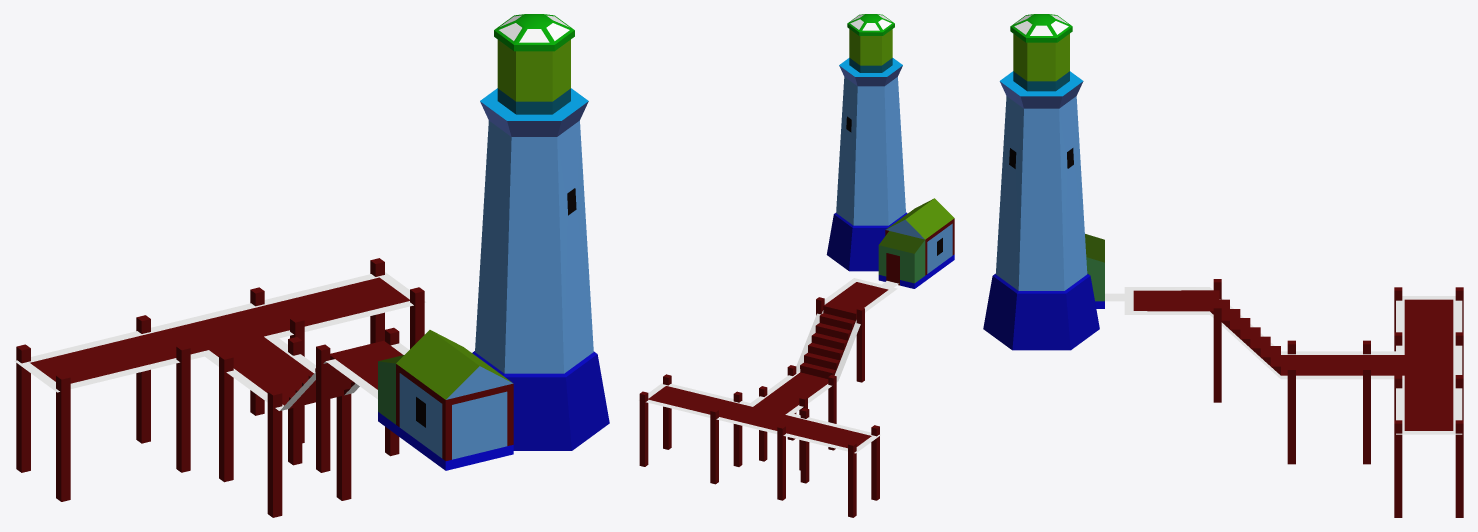
Rendered from FBX_LighthouseTwo.fbx.
3 views of the same model, side by side, from view 1: azimuth 30°, elevation 25°; view 2: azimuth 150°, elevation 25°; view 3: azimuth 270°, elevation 25° (orthographic). The views are drawn at different scales.
Visible parts, largest first — view 1: LighthouseTwo; view 2: LighthouseTwo; view 3: LighthouseTwo.
Part boxes in pixels (box(x1,y1,x2,y2)): LighthouseTwo: box(14, 14, 609, 517); LighthouseTwo: box(638, 14, 954, 517); LighthouseTwo: box(983, 14, 1463, 517).
Bounding box in the file's own units: 600 × 920 × 877.
